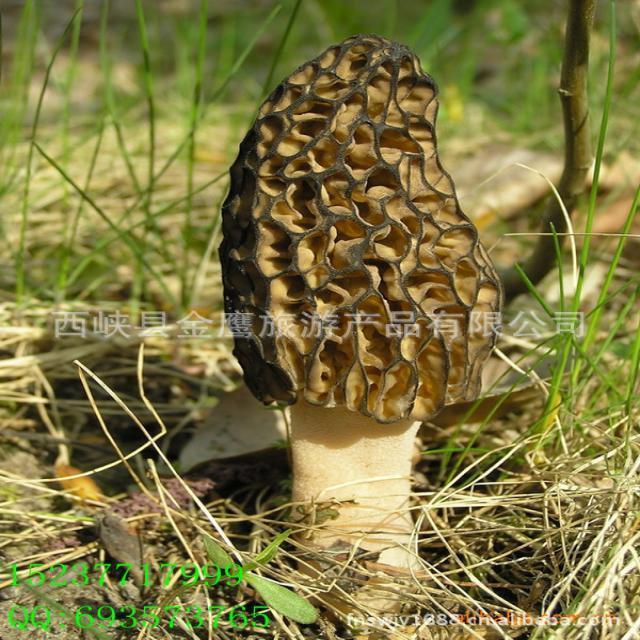Morchella esculenta: (220, 41, 505, 563)
